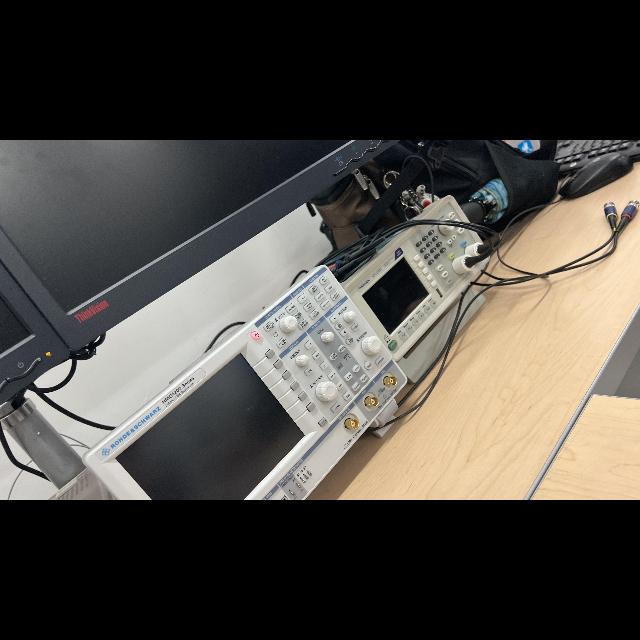Digital-Oscilloscope: (83, 265, 406, 499)
